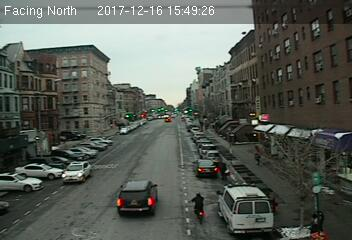bicycle: (190, 190, 209, 228)
car: (115, 180, 159, 216), (60, 160, 89, 183), (193, 159, 217, 175)
police: (215, 180, 273, 233)
